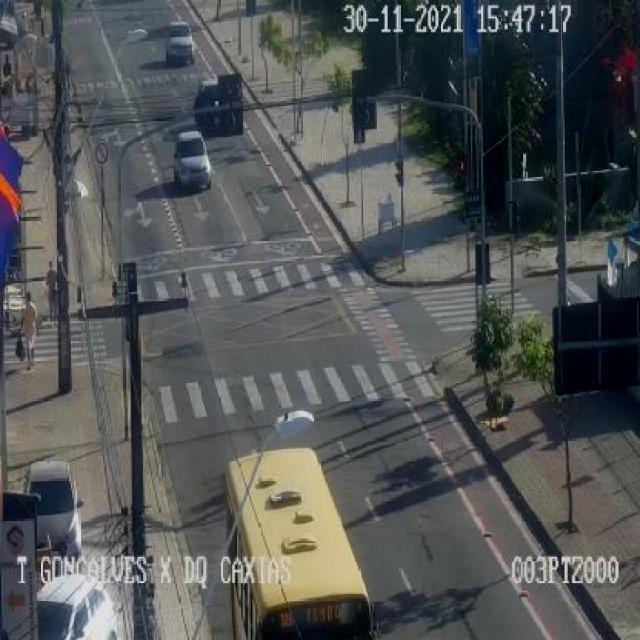Bus: (224, 447, 379, 640)
Car: (23, 457, 84, 565), (36, 572, 118, 640), (172, 130, 212, 189), (165, 22, 196, 68)
